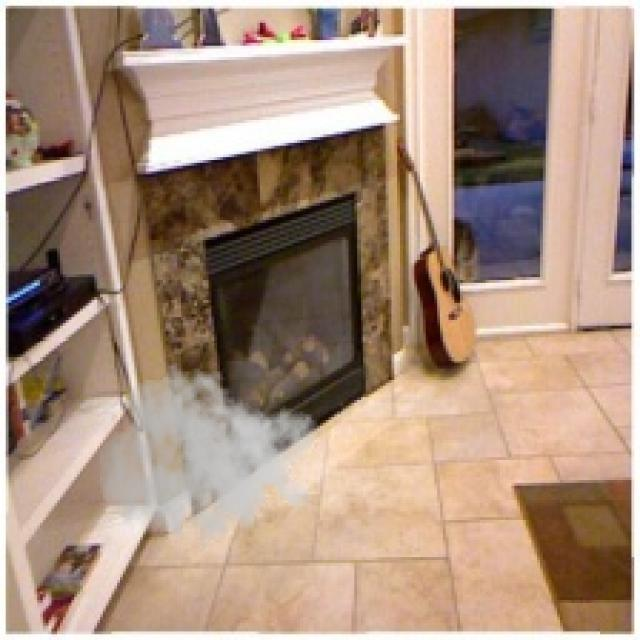Smoke: (97, 357, 320, 563)
